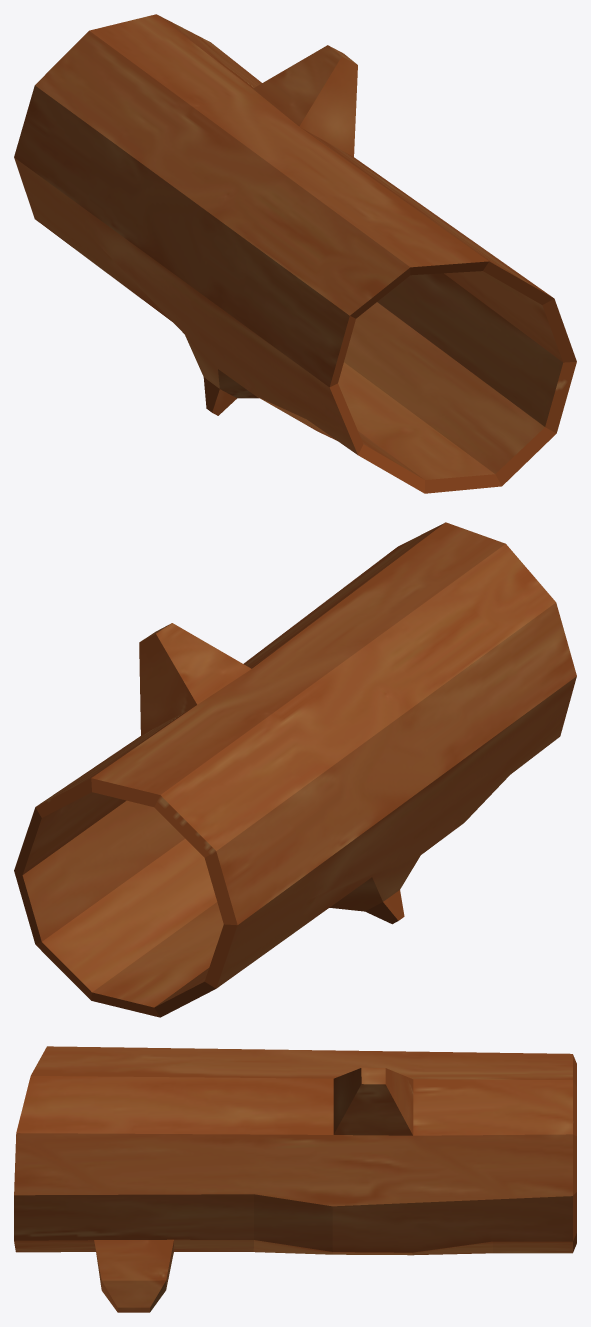
File: dekor_kutuk.fbx
3 views of the same model, one above another, from view 1: azimuth 30°, elevation 25°; view 2: azimuth 150°, elevation 25°; view 3: azimuth 270°, elevation 25° (orthographic). The views are drawn at different scales.
Parts seen in each view (by area): view 1: kutuk; view 2: kutuk; view 3: kutuk.
Boxes of the visible parts, <box> form: kutuk: <box>14,14,576,493</box>; kutuk: <box>14,522,576,1017</box>; kutuk: <box>14,1046,576,1312</box>.
Size of the model in its own units: 2.06 by 2.68 by 5.57.
Materials: 1 (1 with a texture image).
